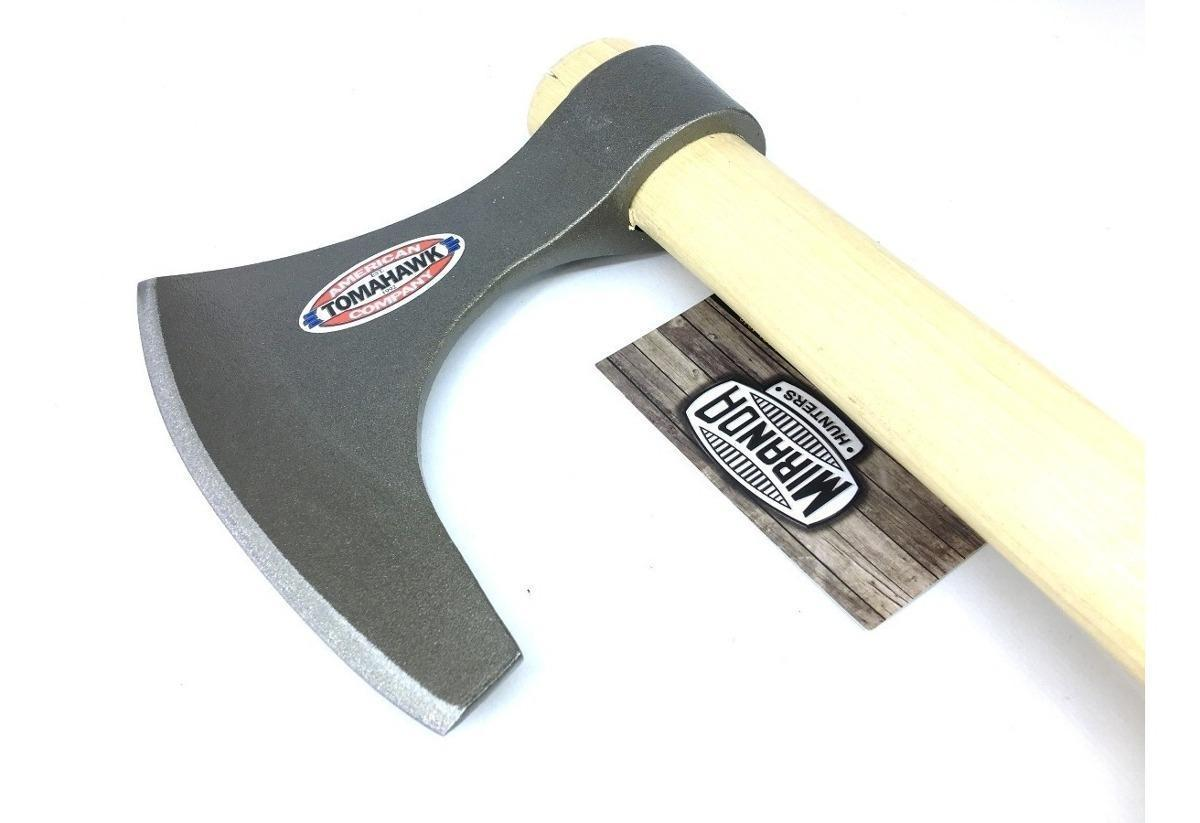machado: (138, 40, 1144, 732)
